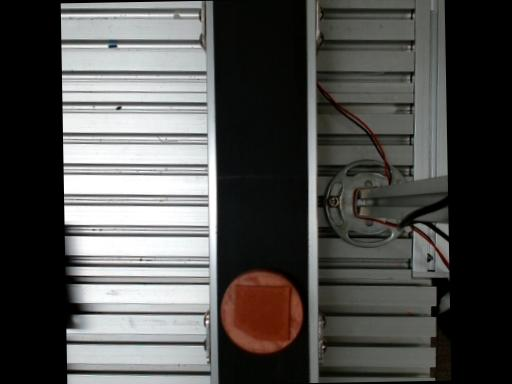Brown_Waper: (221, 269, 304, 353)
Not_Square: (234, 283, 291, 340)
